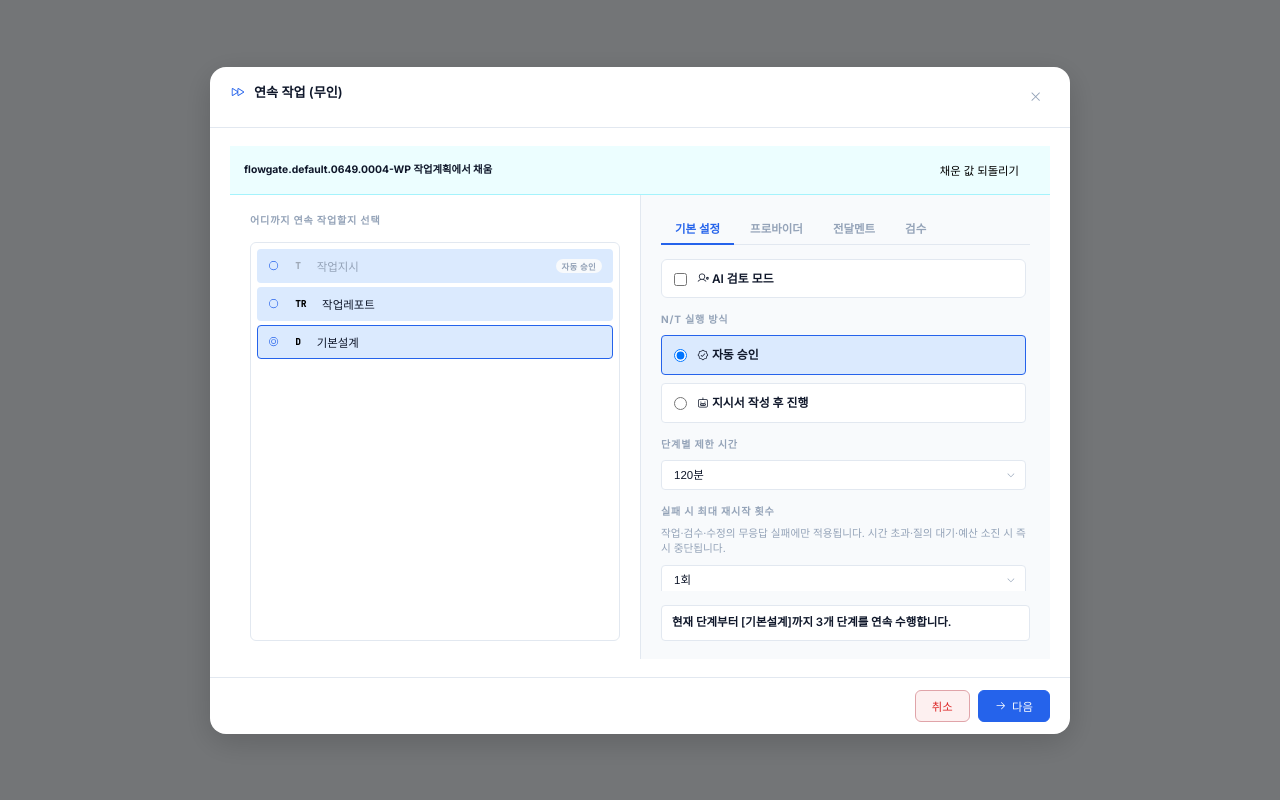
ContinuousWorkDialog preset — card order (0649 T#3) › without a server message the fallback copy is used
The width and height of the screenshot is (1280, 800).
Click the radio button labelled "지시서 작성 후 진행". click: (680, 404)
box: [674,397,687,410]
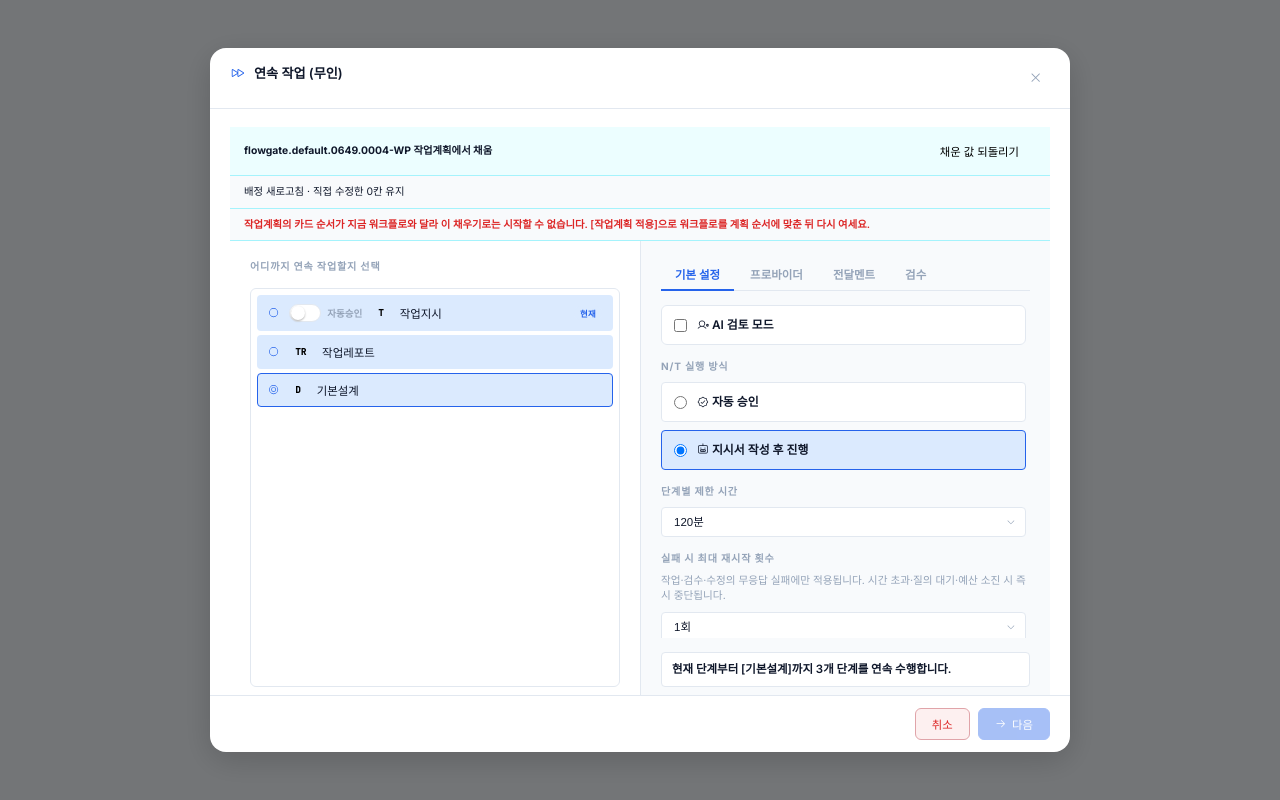
Now the button "다음" is disabled, box [978,708,1050,740]
